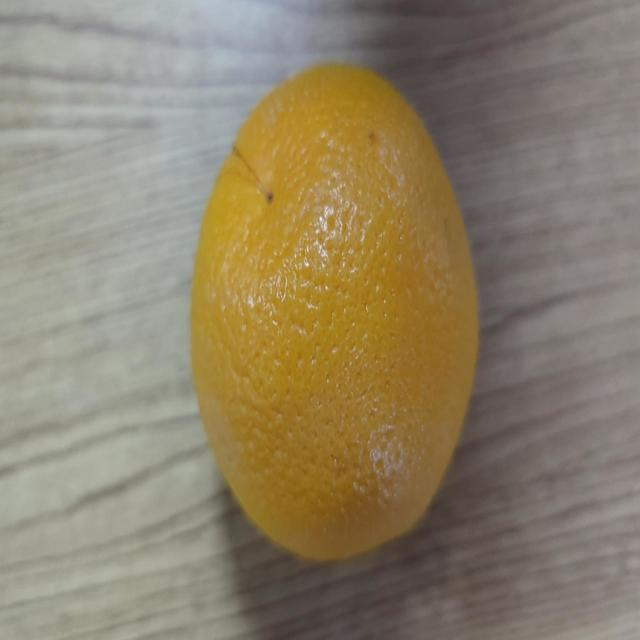Jeruk: (187, 70, 483, 566)
